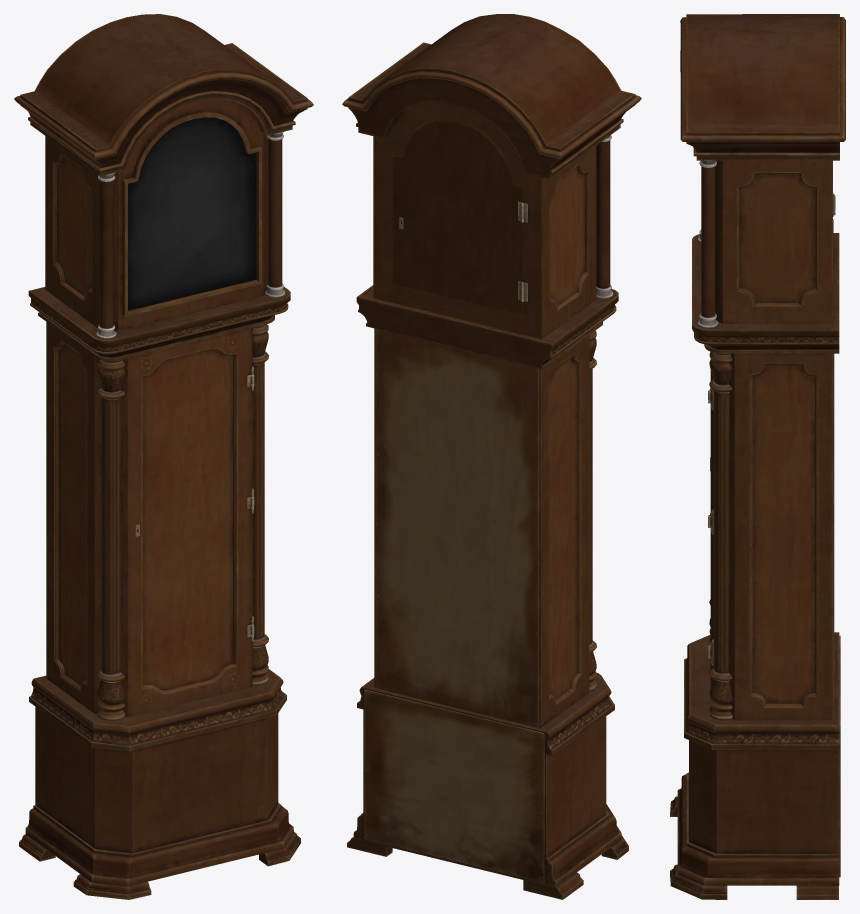
File: vintage_grandfather_clock_01.glb
The picture shows the model from 3 angles, left to right: view 1: azimuth 30°, elevation 25°; view 2: azimuth 150°, elevation 25°; view 3: azimuth 270°, elevation 25°; orthographic projection. The views are drawn at different scales.
Parts seen in each view (by area): view 1: vintage_grandfather_clock_01_Body; view 2: vintage_grandfather_clock_01_Body; view 3: vintage_grandfather_clock_01_Body.
Part boxes in pixels (bbox=[...]): vintage_grandfather_clock_01_Body: bbox=[14, 14, 313, 899]; vintage_grandfather_clock_01_Body: bbox=[342, 14, 641, 899]; vintage_grandfather_clock_01_Body: bbox=[670, 14, 845, 899].
Size of the model in its own units: 0.6255 by 2.19 by 0.4265.
2 materials, 2 textured.
